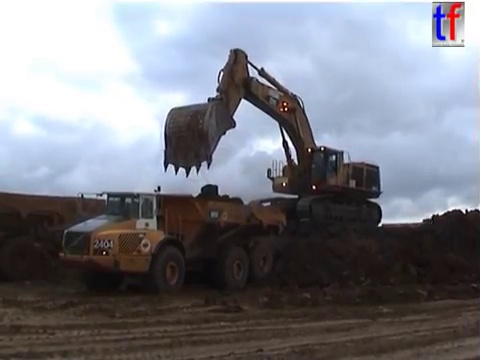excavator: (160, 45, 386, 230)
truck: (56, 184, 289, 298), (1, 188, 148, 286), (380, 214, 454, 243)
